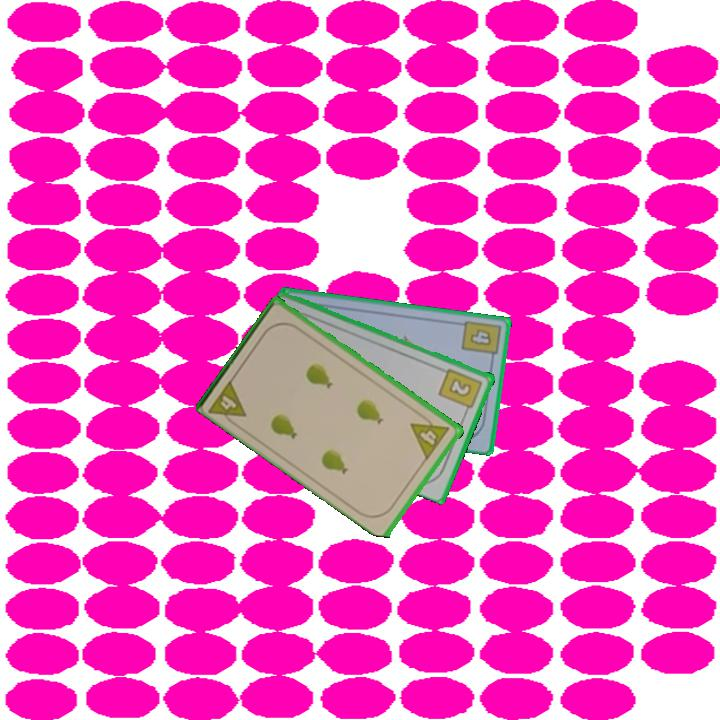2b: (436, 365, 485, 416)
4b: (458, 317, 503, 364)
4p: (205, 375, 250, 430), (407, 409, 453, 462)
